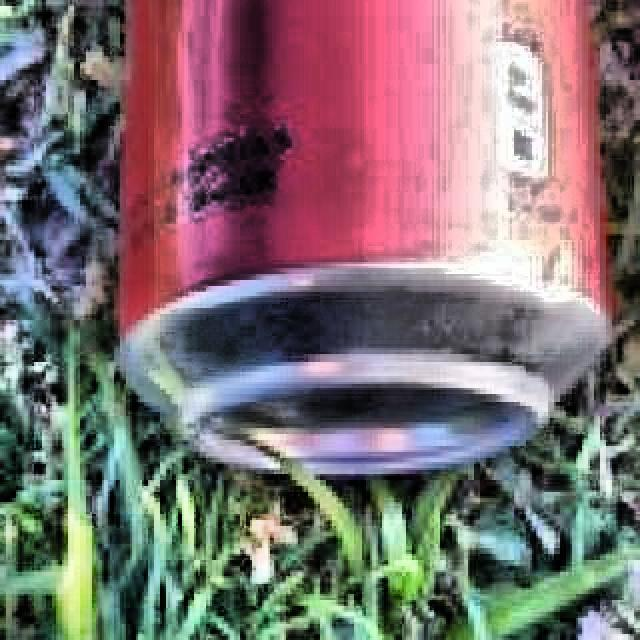metal: (111, 0, 616, 476)
